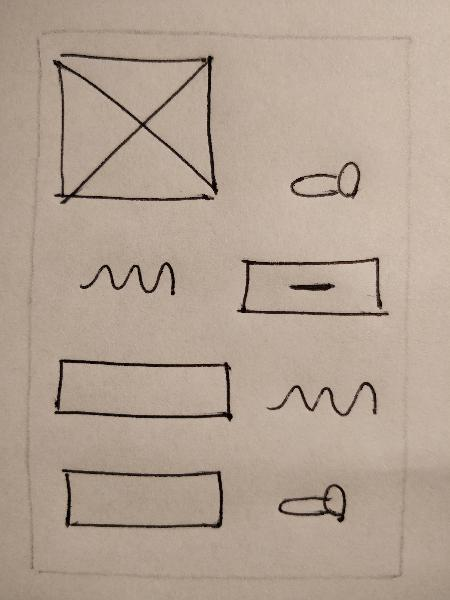button: (227, 252, 396, 327)
image: (47, 47, 220, 212)
switch: (277, 157, 381, 213), (270, 474, 359, 537)
text: (265, 370, 381, 428), (69, 252, 183, 304)
text_input: (47, 352, 237, 434), (52, 461, 232, 539)
